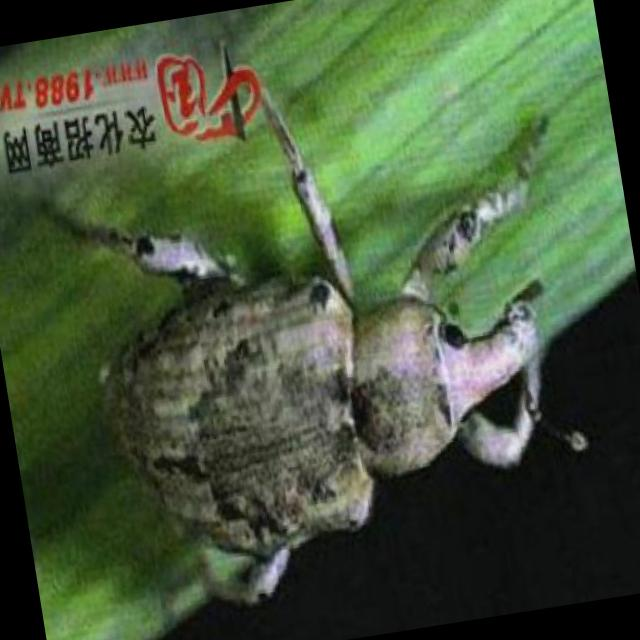rice-bug: (80, 200, 562, 558)
